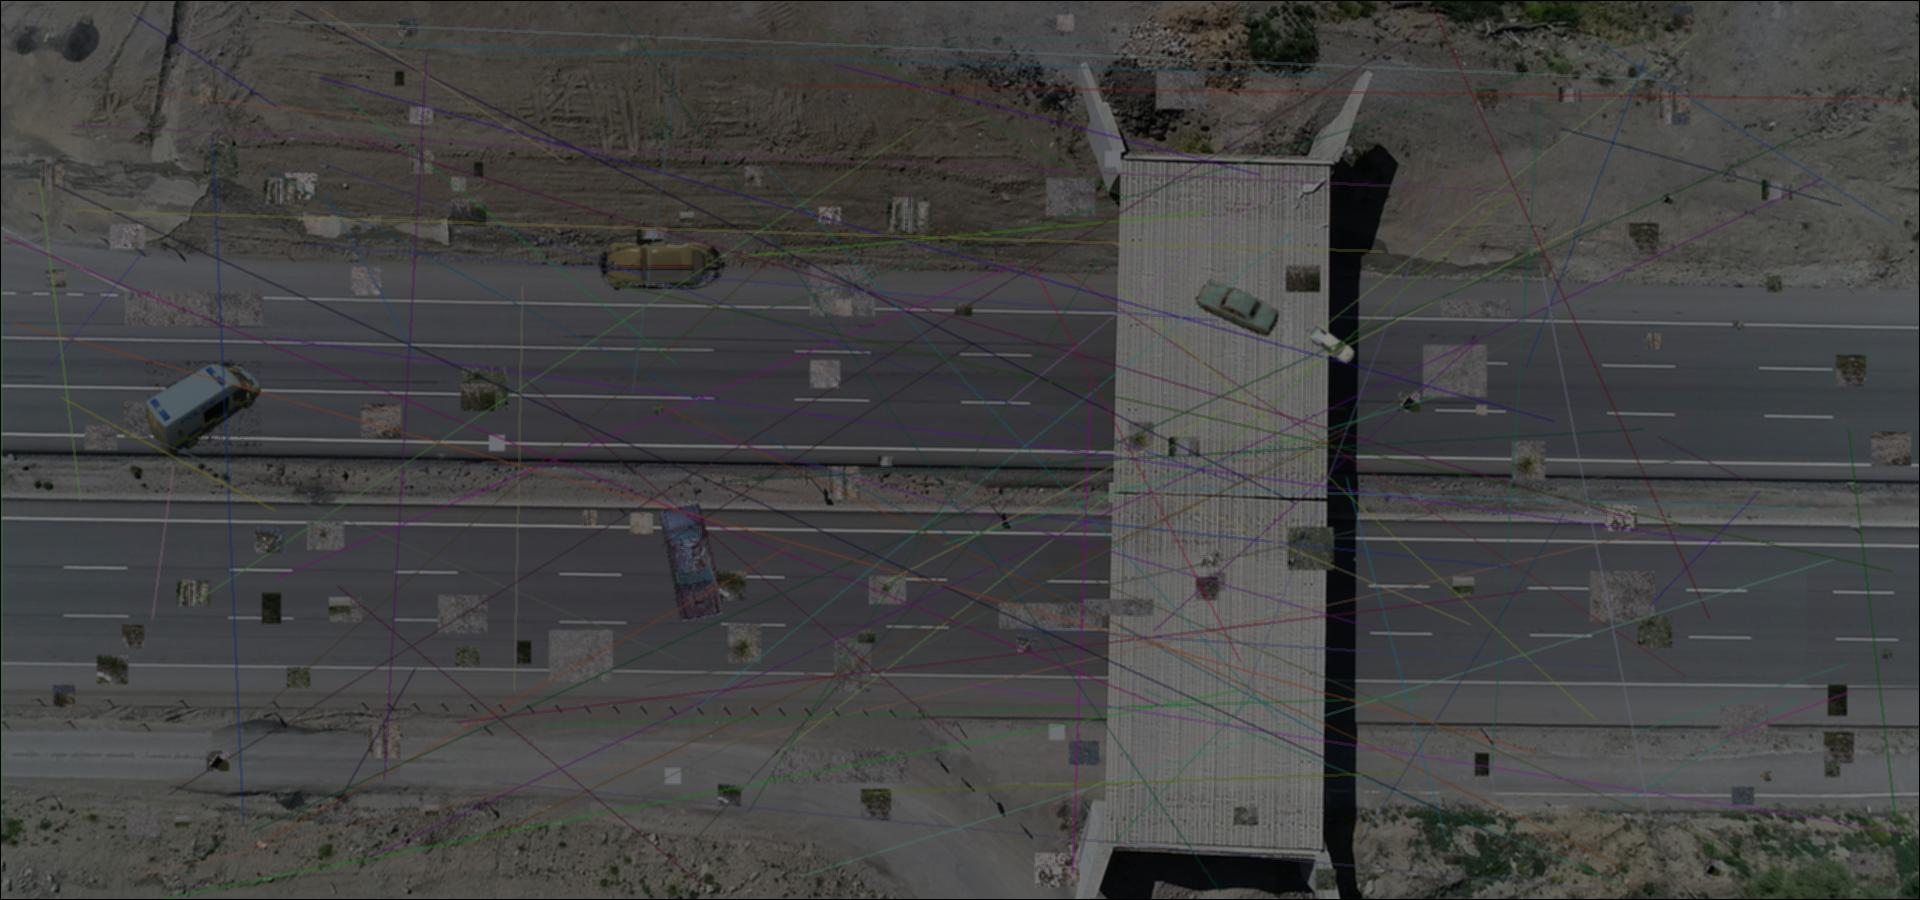arac: (146, 360, 261, 456), (658, 504, 726, 621), (598, 238, 727, 293), (1193, 276, 1280, 337), (1304, 323, 1356, 362)
